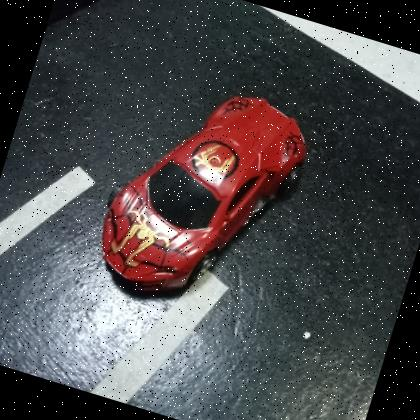Car: (101, 96, 306, 300)
